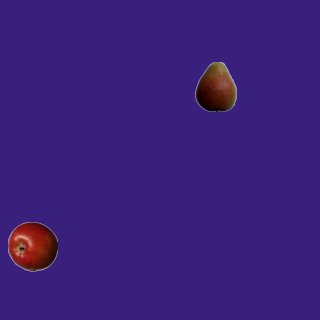Apple Braeburn: (7, 221, 57, 271)
Pear Forelle: (190, 61, 240, 111)
